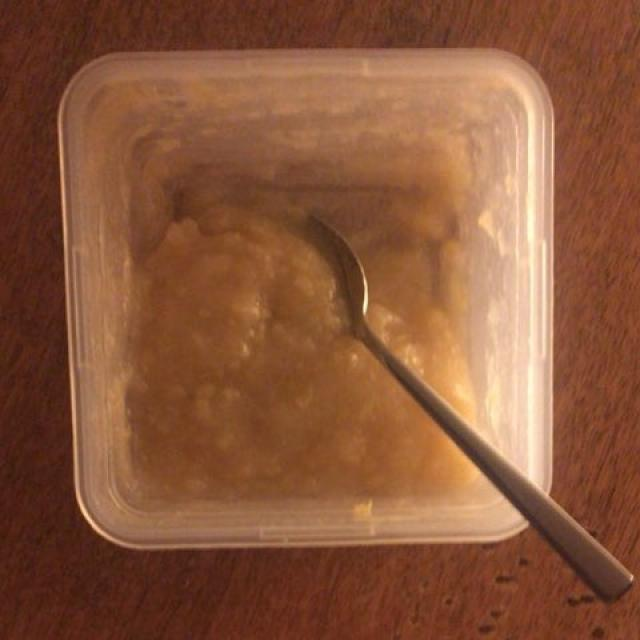applesauce-unsweetened-canned: (111, 177, 486, 508)
